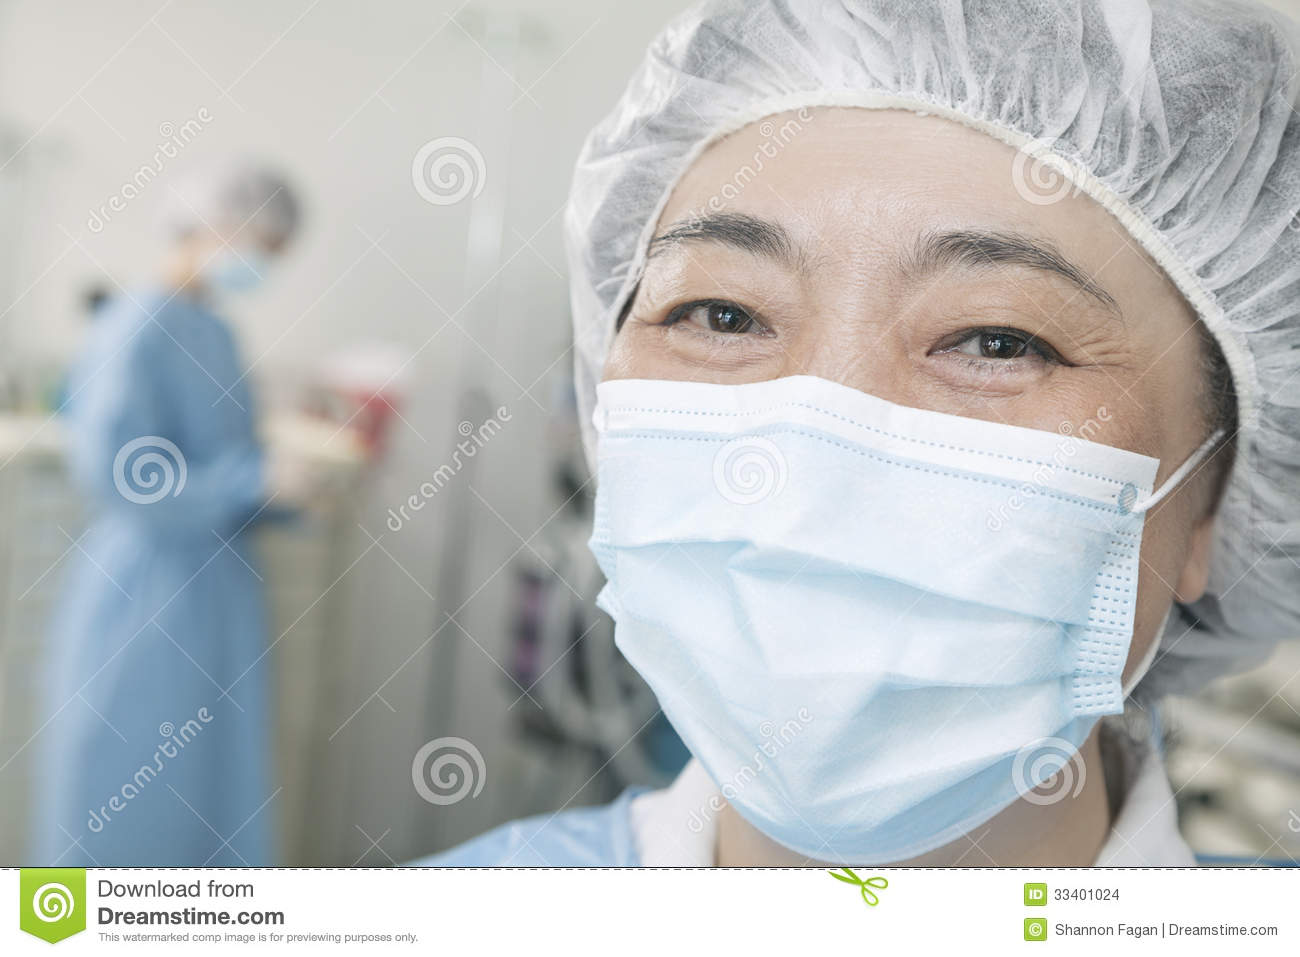mask: (600, 374, 1169, 808)
